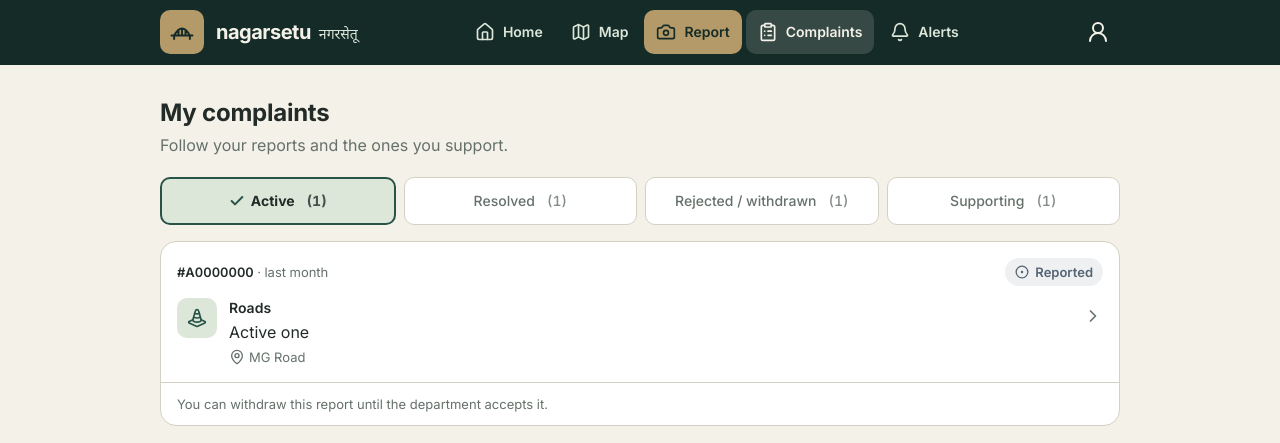
Scenario: my complaints › splits by status (no 'Closed' tab) and lists supported issues under Supporting
The width and height of the screenshot is (1280, 443).
Expected: the text "Active one" is shown, [229,322,309,342]
Click the tab "Rejected / withdrawn (1)": [762, 201] box [645,177,878,225]
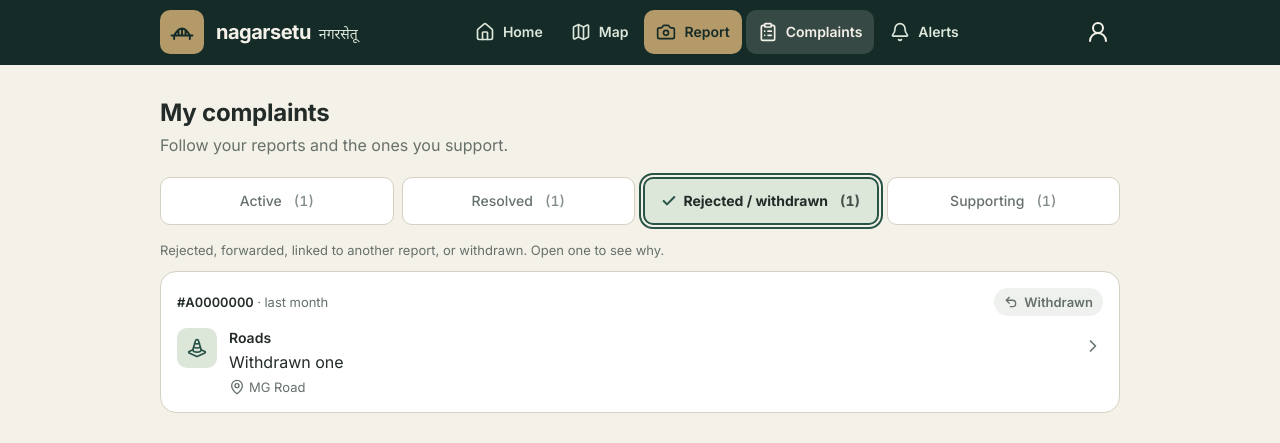
Expected: the text "Withdrawn one" is shown, [229,352,344,372]
Click the tab "Supporting (1)": [1003, 201] box [886,177,1120,225]
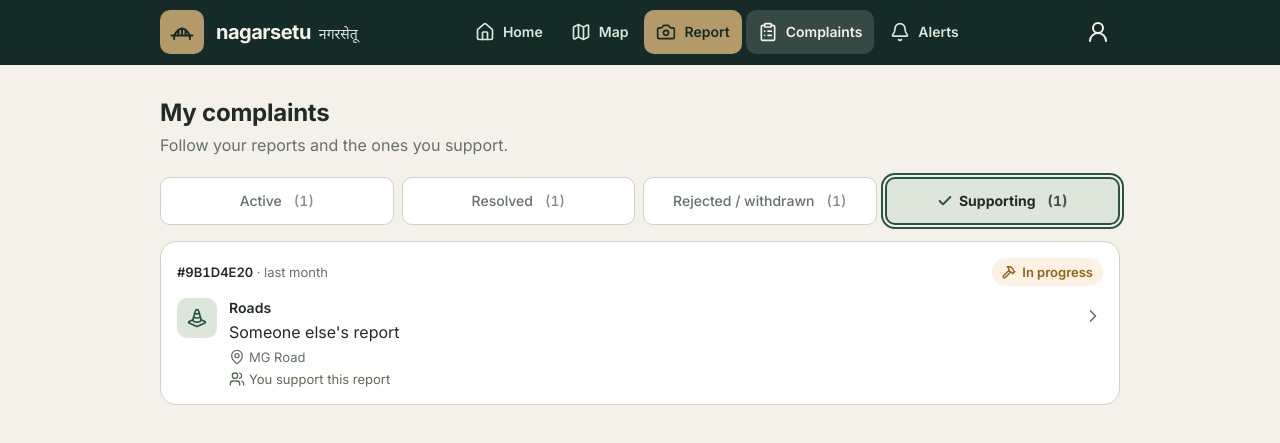
Expected: the text "Someone else's report" is shown, [229,322,400,342]
Expected: the text "You support this report" is shown, [229,371,390,387]
